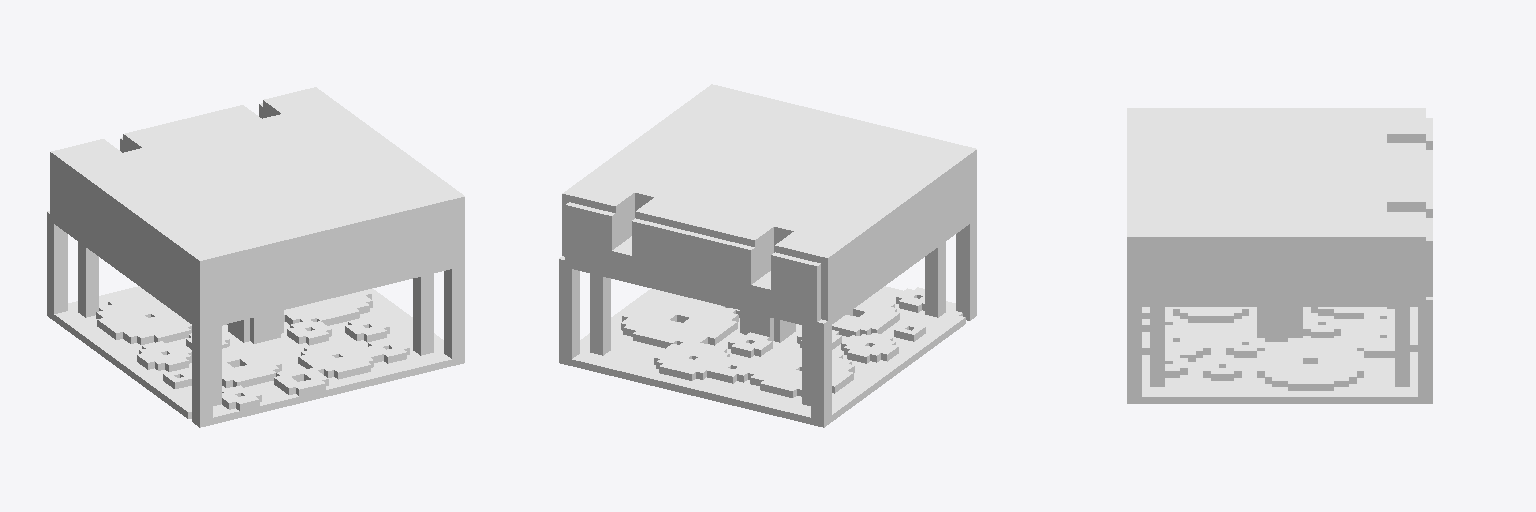
Rendered from extractor_core.obj.
3 renders of one model, left to right at view 1: azimuth 30°, elevation 25°; view 2: azimuth 150°, elevation 25°; view 3: azimuth 270°, elevation 25°, orthographic.
Visible parts, largest first — view 1: extractor_core; view 2: extractor_core; view 3: extractor_core.
Part boxes in pixels (left/top/right/bottom): extractor_core: left=47, top=87, right=464, bottom=427; extractor_core: left=559, top=84, right=976, bottom=427; extractor_core: left=1127, top=108, right=1432, bottom=403.
Size of the model in its own units: 40 by 24 by 40.